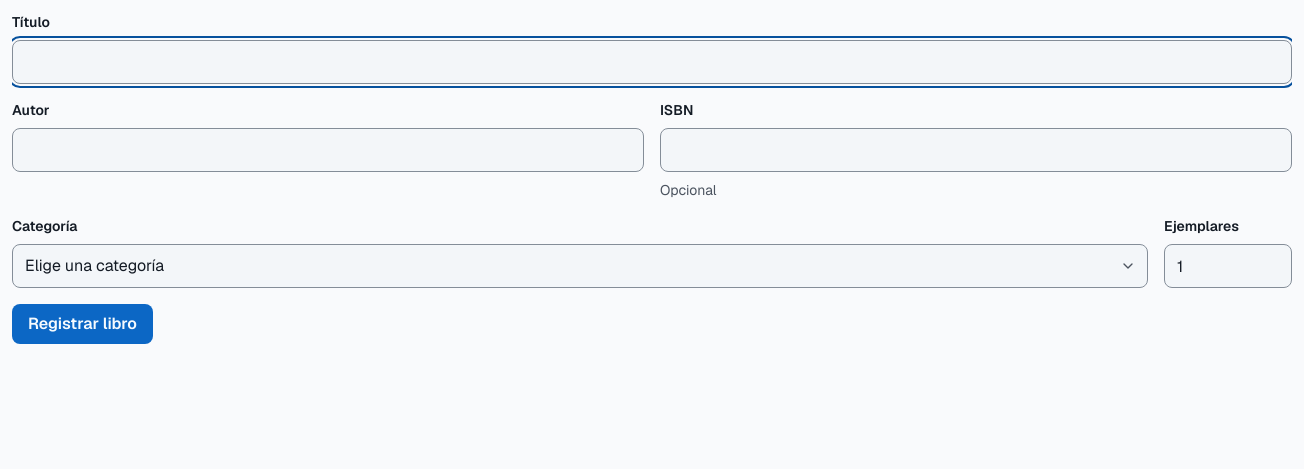
Test case: BookIntakeForm › adds a copy to an existing title when a match is found
The width and height of the screenshot is (1304, 469).
Type "Mecánica" into the field labelled "Título" at (652, 62), box [12,40,1292,84]
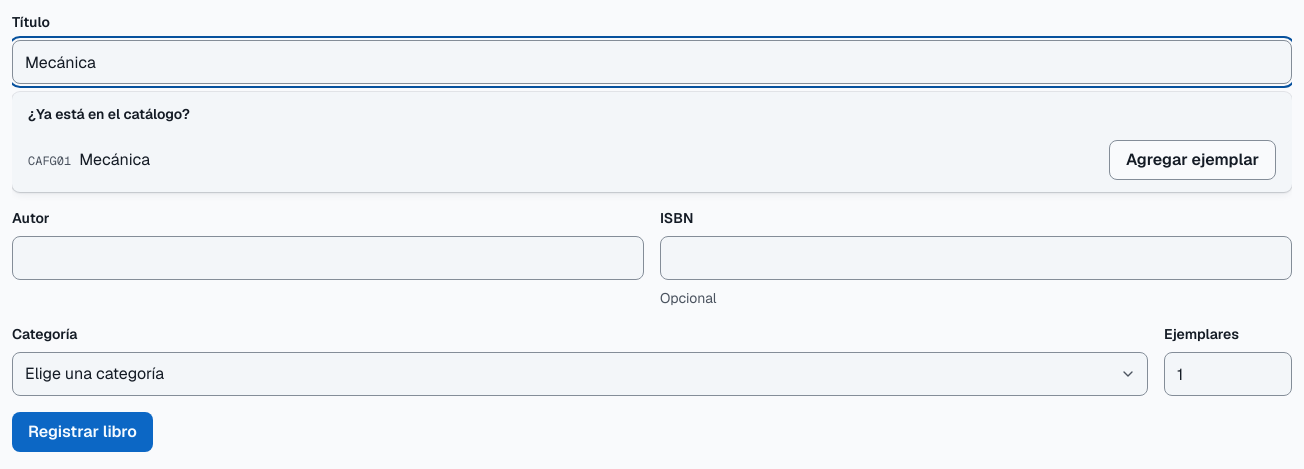
Click the button "Agregar ejemplar" at (1192, 160), box [1109,140,1276,180]
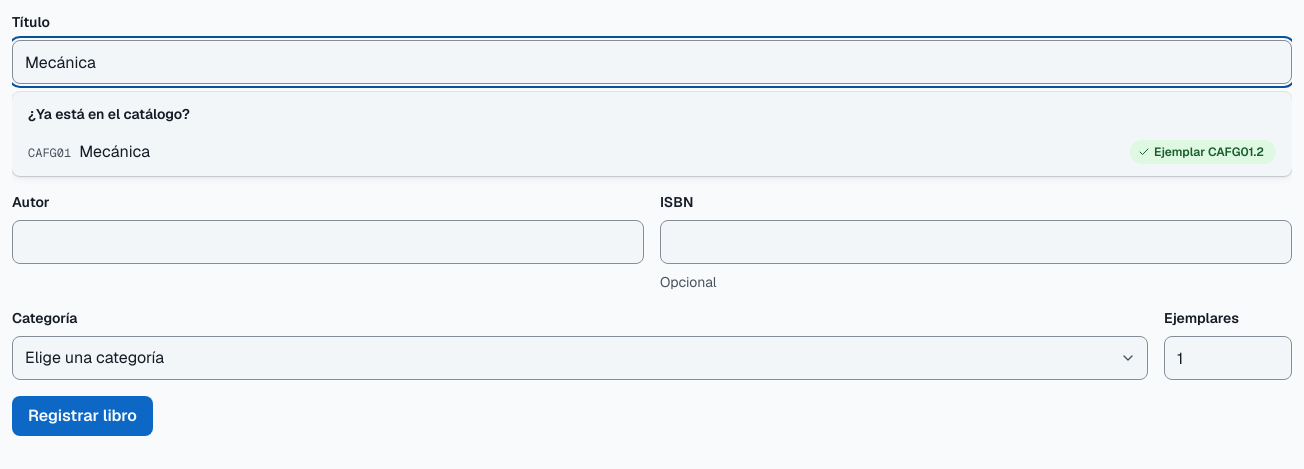
Expected: the text "Ejemplar CAFG01.2" is shown, [1130,140,1276,164]
